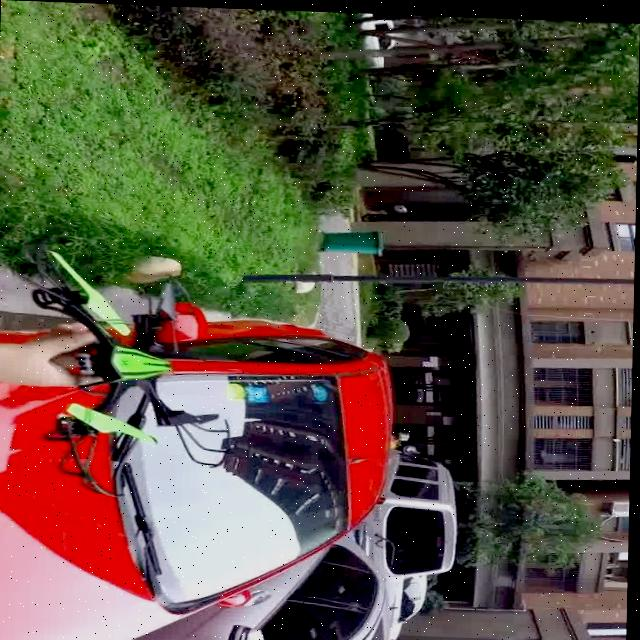drone: (33, 253, 242, 497)
